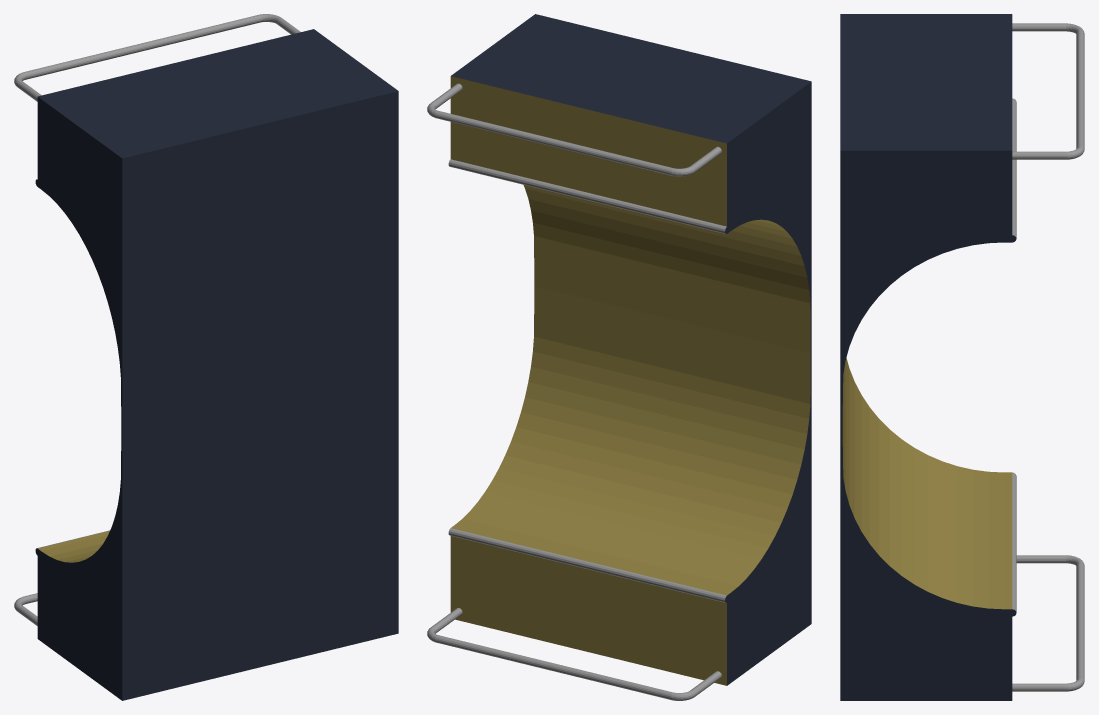
File: Halfpipe W Railing.fbx
The picture shows the model from 3 angles, left to right: view 1: azimuth 30°, elevation 25°; view 2: azimuth 150°, elevation 25°; view 3: azimuth 270°, elevation 25°; orthographic projection.
Visible parts, largest first — view 1: Halfpipe W Railing; view 2: Halfpipe W Railing; view 3: Halfpipe W Railing.
Part boxes in pixels (left/top/right/bottom): Halfpipe W Railing: left=14, top=14, right=398, bottom=700; Halfpipe W Railing: left=427, top=14, right=811, bottom=700; Halfpipe W Railing: left=840, top=14, right=1084, bottom=700.
Bounding box in the file's own units: 1600 × 3000 × 1206.
